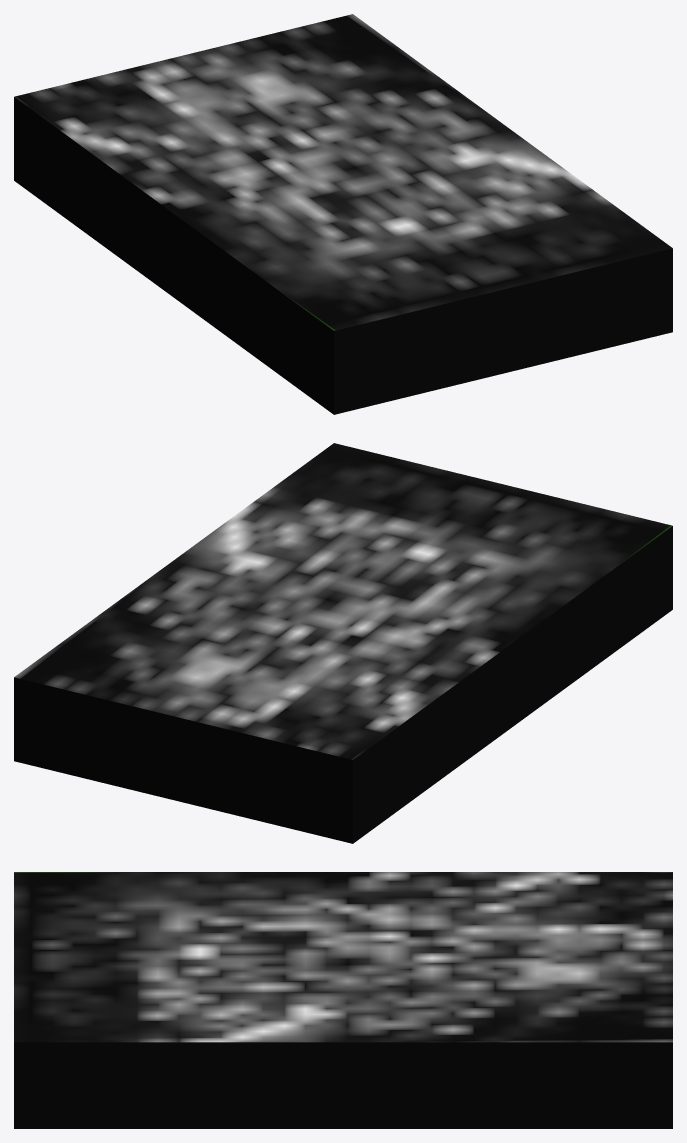
Rendered from PaperVHS8.obj.
3 views of the same model, one above another, from view 1: azimuth 30°, elevation 25°; view 2: azimuth 150°, elevation 25°; view 3: azimuth 270°, elevation 25° (orthographic). The views are drawn at different scales.
Parts seen in each view (by area): view 1: PaperVHS8_Cube.011; view 2: PaperVHS8_Cube.011; view 3: PaperVHS8_Cube.011.
Part boxes in pixels (x1=…): PaperVHS8_Cube.011: x1=14, y1=14, x2=672, y2=414; PaperVHS8_Cube.011: x1=14, y1=443, x2=672, y2=843; PaperVHS8_Cube.011: x1=14, y1=872, x2=672, y2=1128.
Bounding box in the file's own units: 0.4069 × 0.0962 × 0.6654.
